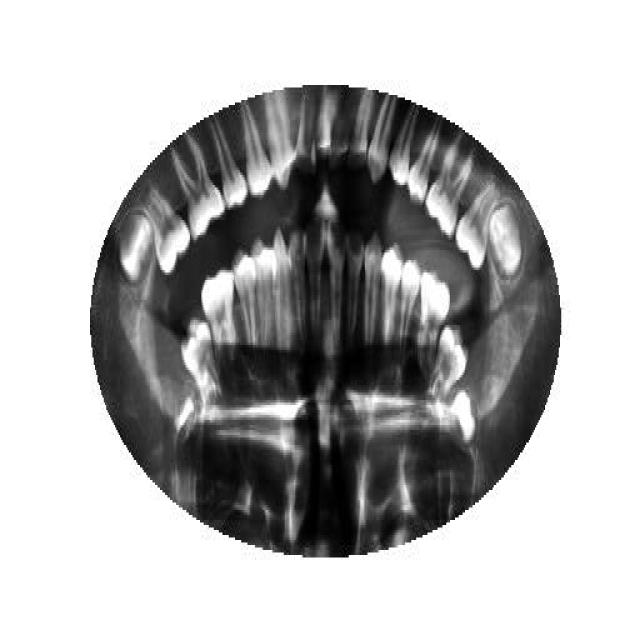Impacted Tooth: (486, 197, 525, 285), (116, 205, 154, 287)
